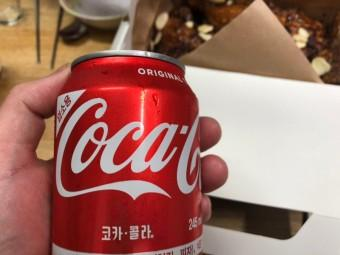can: (47, 47, 216, 255)
